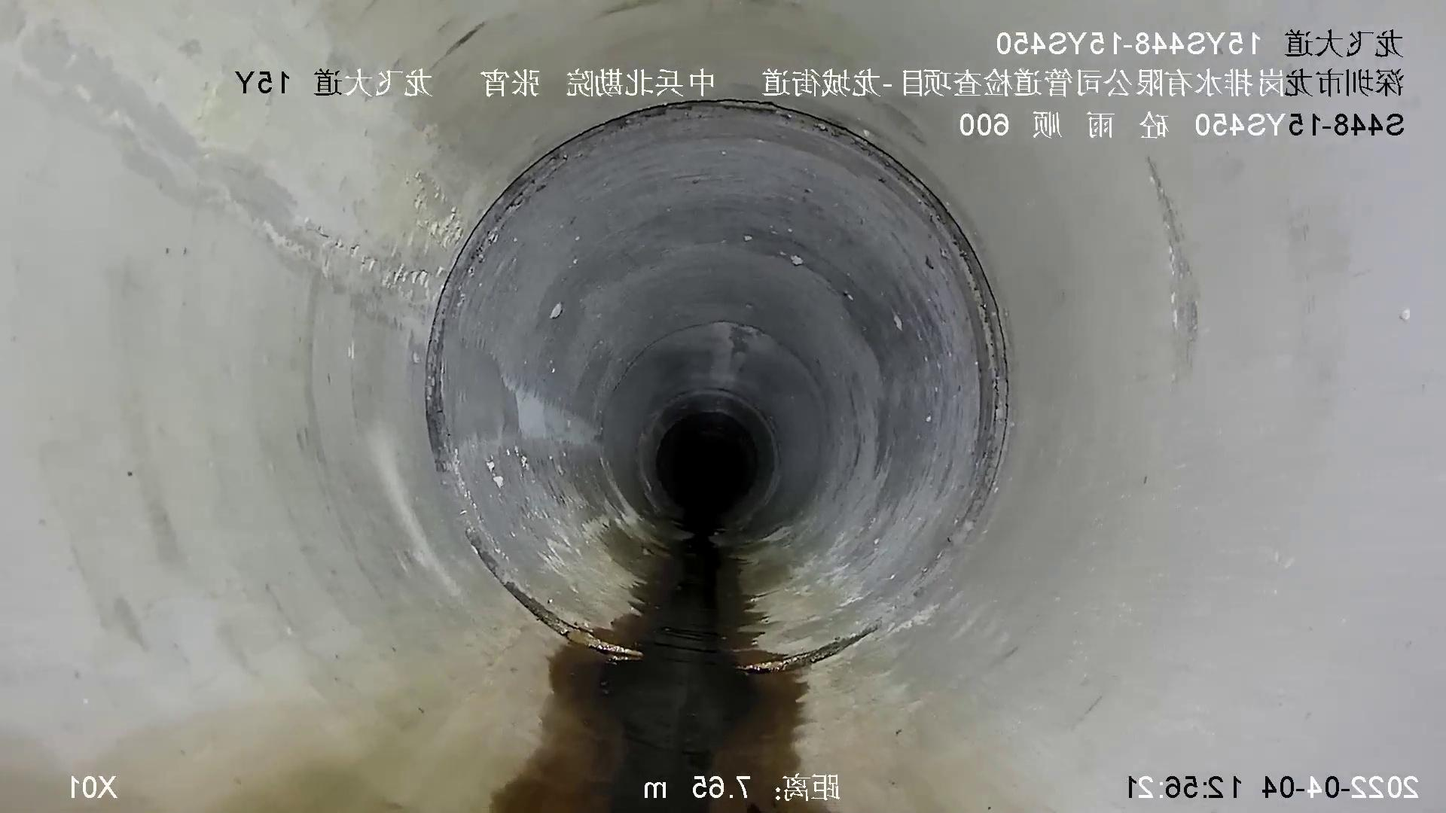CKTJ: (425, 99, 1008, 557), (465, 522, 644, 660), (737, 624, 880, 673)
